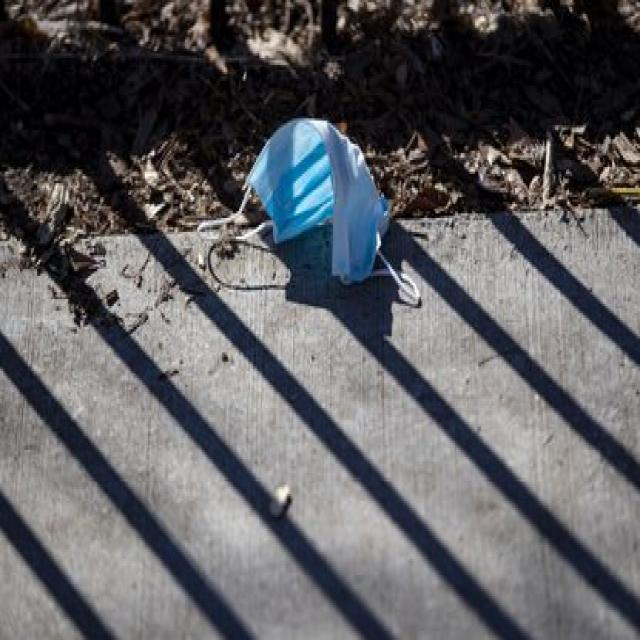face mask: (206, 111, 412, 318)
